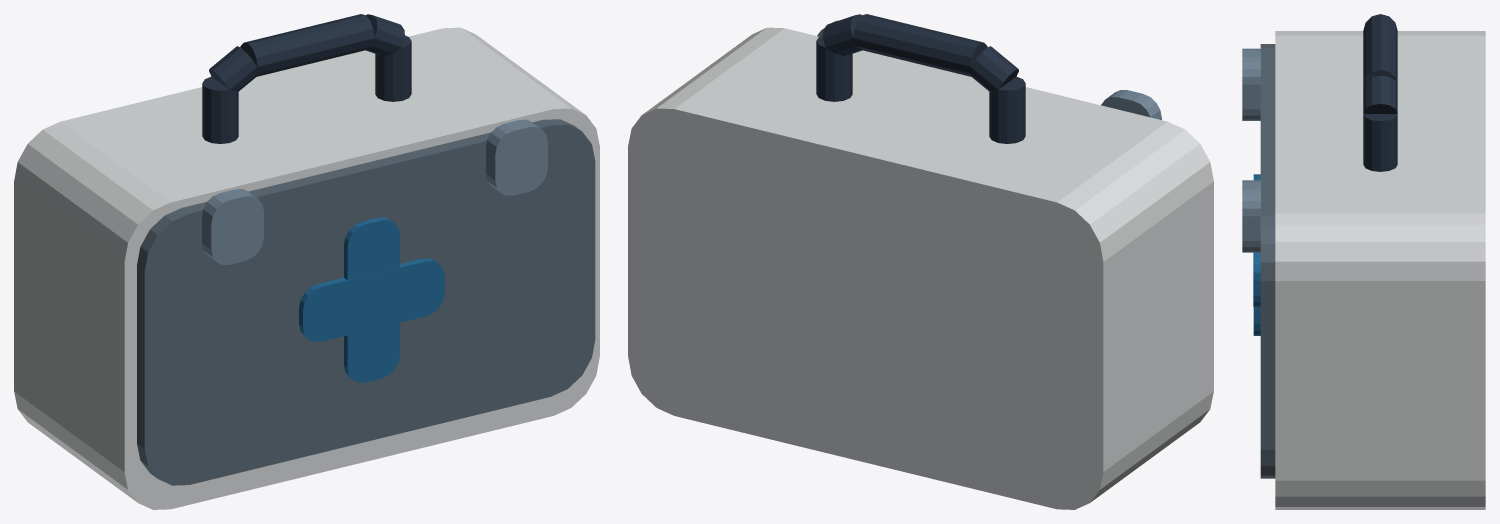
The model's file is firstaid.glb.
3 views of the same model, side by side, from view 1: azimuth 30°, elevation 25°; view 2: azimuth 150°, elevation 25°; view 3: azimuth 270°, elevation 25° (orthographic). The views are drawn at different scales.
Visible parts, largest first — view 1: lid, case, cross horizontal, cross vertical, carry handle2, closure 0.46, closure -0.46, carry handle0, carry handle4, carry handle1, carry handle3; view 2: case, carry handle2, carry handle0, carry handle4, carry handle1, carry handle3, closure -0.46; view 3: case, lid, carry handle2, carry handle4, closure -0.46, closure 0.46, carry handle3, cross horizontal, cross vertical.
Boxes of the visible parts, x1,y1,x2,y2 form: lid: (137, 119, 595, 485); case: (14, 27, 599, 509); cross horizontal: (299, 258, 444, 341); cross vertical: (344, 217, 399, 382); carry handle2: (240, 14, 374, 76); closure 0.46: (486, 119, 547, 195); closure -0.46: (202, 189, 263, 264); carry handle0: (202, 76, 238, 143); carry handle4: (375, 35, 411, 101); carry handle1: (209, 46, 258, 91); carry handle3: (366, 14, 404, 55); case: (628, 27, 1213, 509); carry handle2: (853, 14, 987, 76); carry handle0: (989, 76, 1025, 143); carry handle4: (816, 35, 852, 101); carry handle1: (969, 46, 1018, 91); carry handle3: (823, 14, 861, 55); closure -0.46: (1101, 90, 1161, 119); case: (1275, 31, 1485, 509); lid: (1260, 44, 1275, 478); carry handle2: (1363, 15, 1397, 84); carry handle4: (1363, 114, 1397, 171); closure -0.46: (1242, 48, 1260, 120); closure 0.46: (1242, 180, 1260, 252); carry handle3: (1363, 75, 1397, 113); cross horizontal: (1253, 252, 1260, 307); cross vertical: (1253, 174, 1260, 335).
Bounding box in the file's own units: 1.54 × 1.22 × 0.7175.
